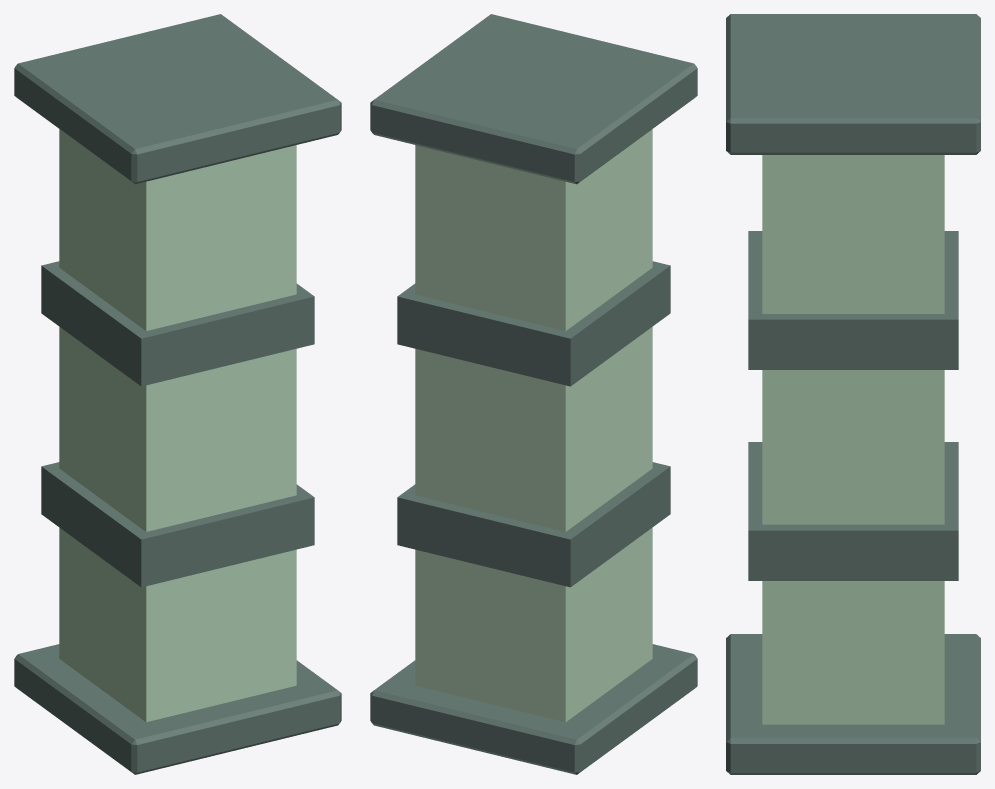
Rendered from 2mPillar.fbx.
The picture shows the model from 3 angles, left to right: view 1: azimuth 30°, elevation 25°; view 2: azimuth 150°, elevation 25°; view 3: azimuth 270°, elevation 25°; orthographic projection. The views are drawn at different scales.
Visible parts, largest first — view 1: 2mPillar; view 2: 2mPillar; view 3: 2mPillar.
Part boxes in pixels (box(x1,y1,x2,y2)): 2mPillar: box(14, 14, 341, 774); 2mPillar: box(370, 14, 697, 774); 2mPillar: box(726, 14, 980, 774).
Size of the model in its own units: 1 by 2.85 by 1.
